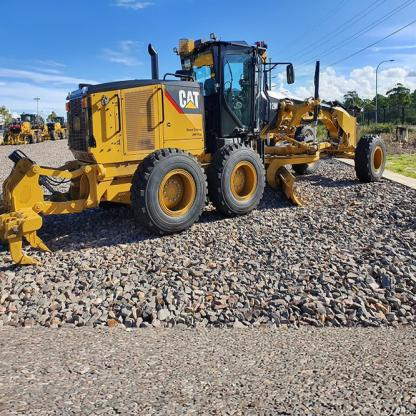bull_dozer/loader/grader: (13, 32, 395, 250)
